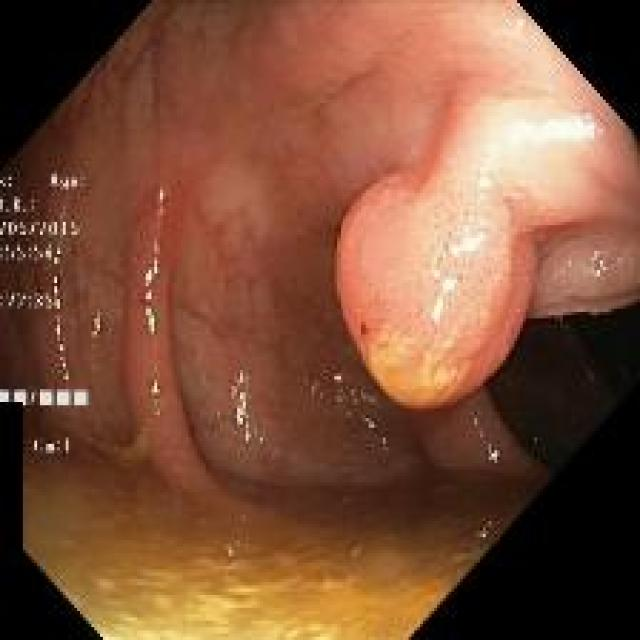Polyps: (336, 61, 640, 410)
